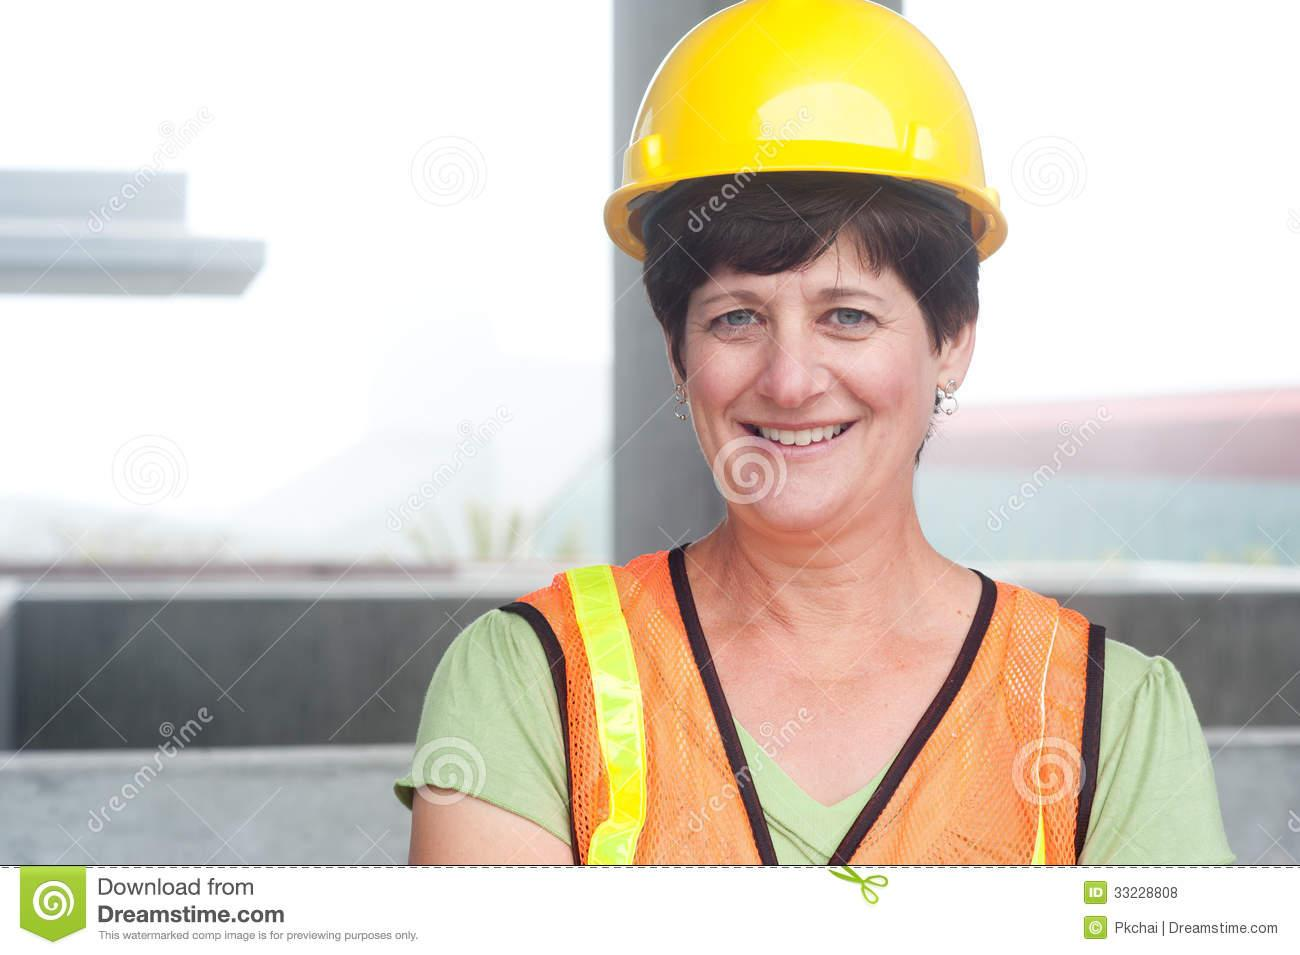helmet: (606, 1, 1011, 268)
